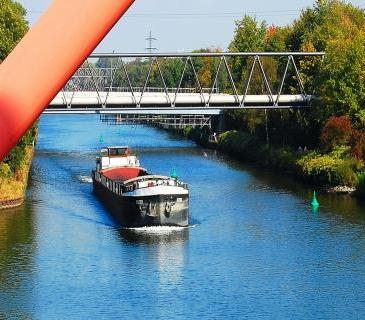Ship: (78, 137, 198, 240)
